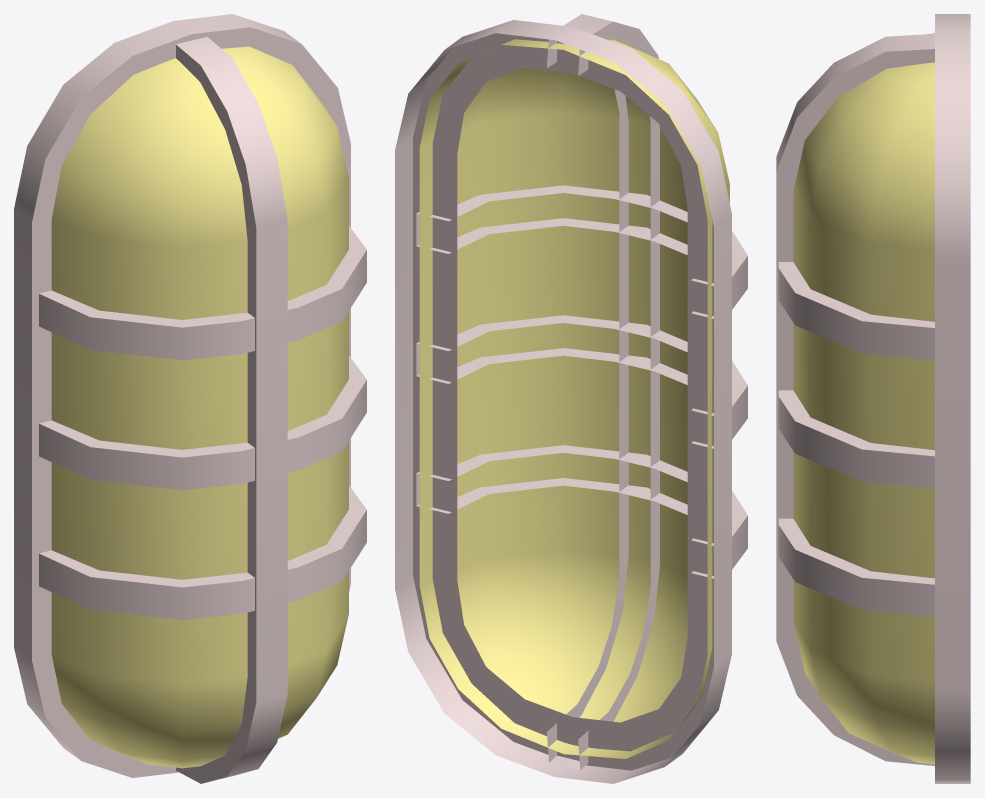
Rendered from lamp_001.fbx.
3 renders of one model, left to right at view 1: azimuth 30°, elevation 25°; view 2: azimuth 150°, elevation 25°; view 3: azimuth 270°, elevation 25°, orthographic.
Visible parts, largest first — view 1: lamp_001; view 2: lamp_001; view 3: lamp_001.
Boxes of the visible parts, x1,y1,x2,y2 form: lamp_001: (14,14,366,783); lamp_001: (395,14,747,783); lamp_001: (776,14,970,783).
Bounding box in the file's own units: 115 × 61.25 × 253.
